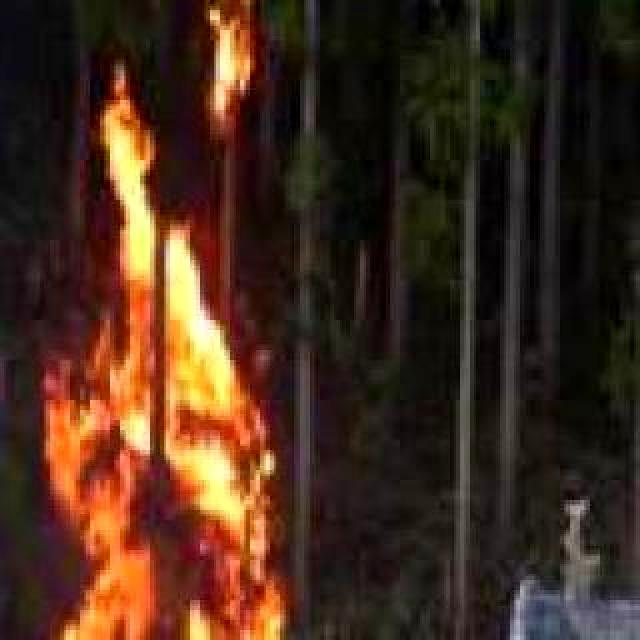fire: (20, 112, 304, 640), (190, 0, 294, 108)
